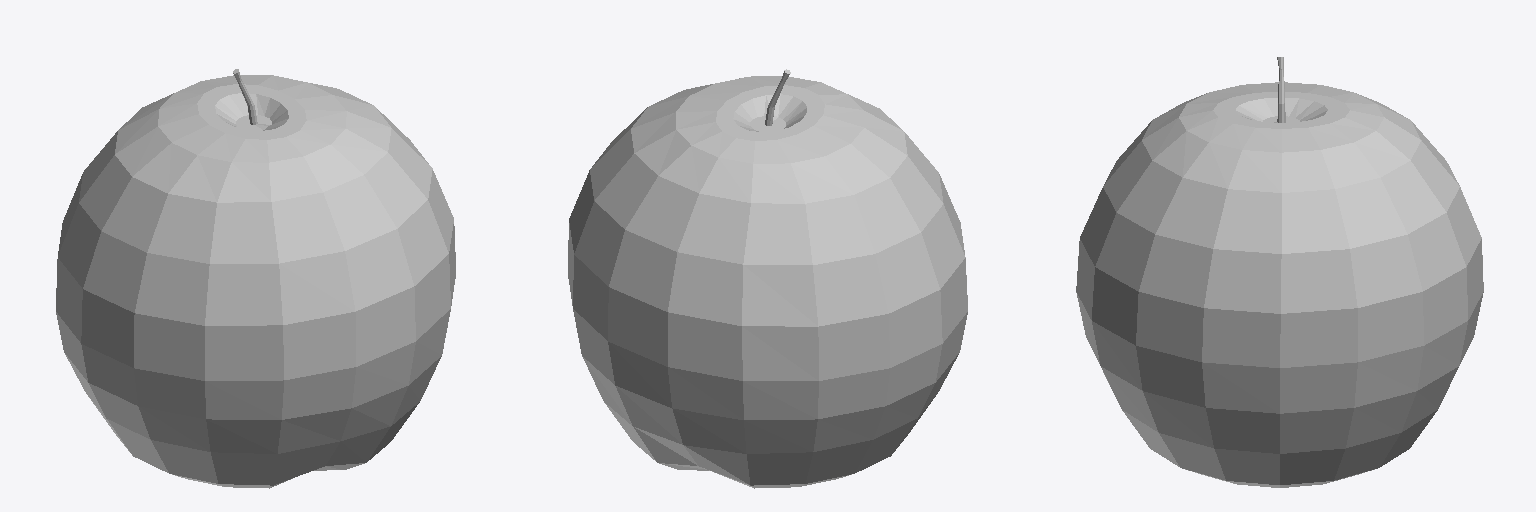
File: apple.obj
3 renders of one model, left to right at view 1: azimuth 30°, elevation 25°; view 2: azimuth 150°, elevation 25°; view 3: azimuth 270°, elevation 25°, orthographic.
Visible parts, largest first — view 1: Circle; view 2: Circle; view 3: Circle.
Part boxes in pixels (x1,y1,x2,y2): Circle: (56, 69, 455, 488); Circle: (568, 69, 967, 488); Circle: (1076, 57, 1483, 487).
Size of the model in its own units: 0.5259 by 0.5484 by 0.5313.